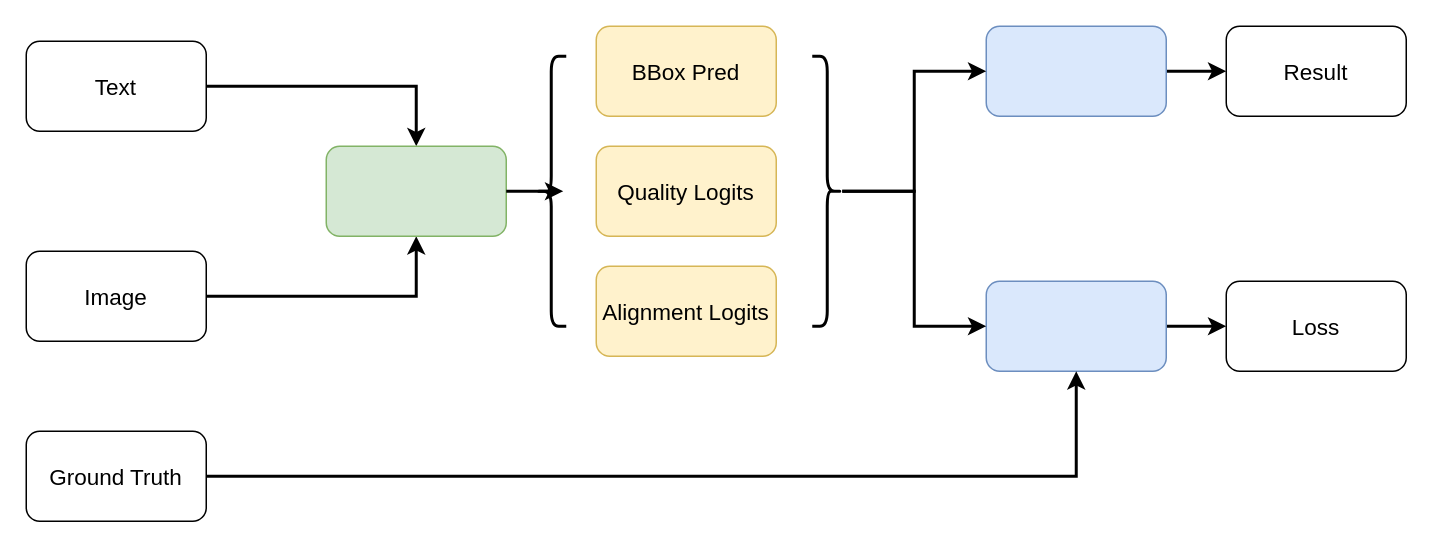
Image size: 1433x548. Some labels were removed from this diagram. The shapes that lost their labels are listed below. From the top down, each one's centre as x and y in pixels, then its label:
At (1075,70): "Top-K".
At (415,190): "LightDet".
At (1075,325): "Hungarian Matcher".
